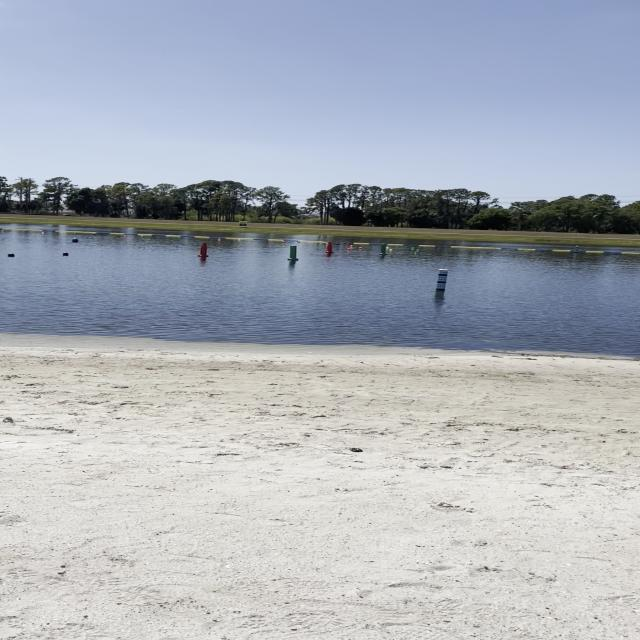buoy: (7, 252, 16, 258), (62, 252, 70, 256), (72, 238, 79, 242), (414, 249, 420, 251), (346, 248, 352, 250), (216, 238, 222, 240), (349, 245, 354, 247), (386, 246, 389, 249), (282, 241, 286, 243), (415, 252, 418, 254), (336, 243, 339, 245), (390, 249, 392, 251), (412, 247, 414, 249), (360, 247, 362, 249), (298, 241, 300, 242)
